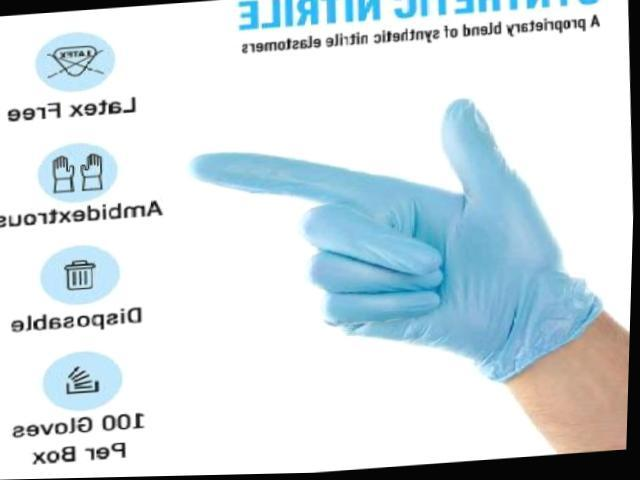Hand-in-Glove: (174, 76, 625, 433)
